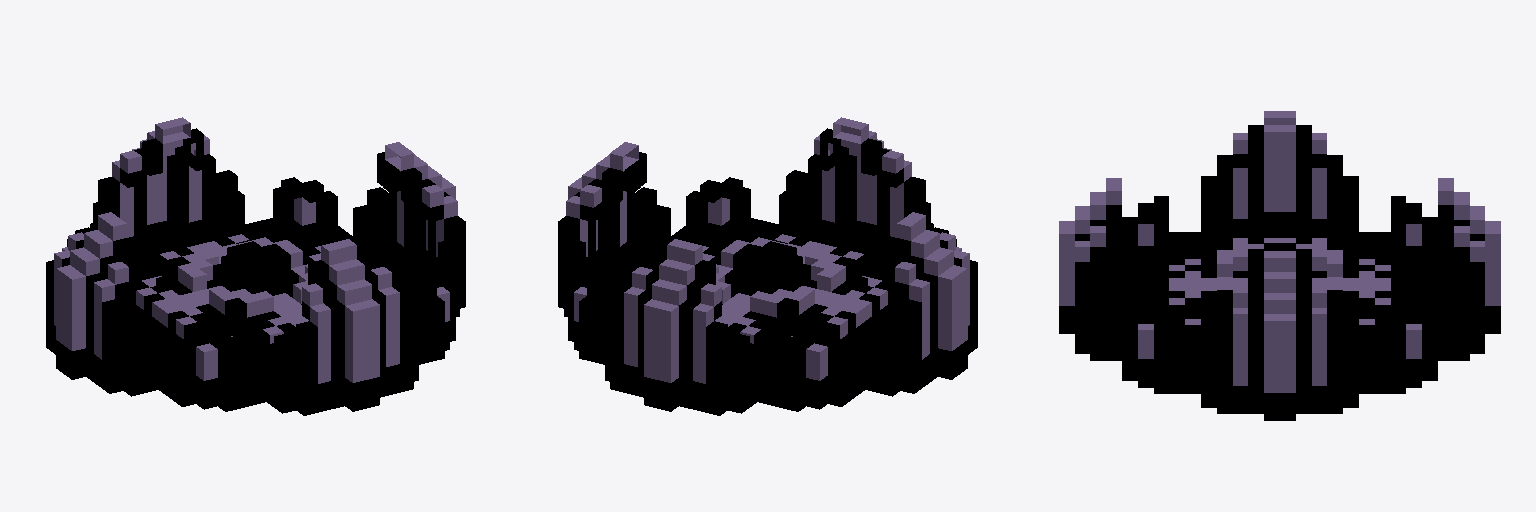
3 views of the same model, side by side, from view 1: azimuth 30°, elevation 25°; view 2: azimuth 150°, elevation 25°; view 3: azimuth 270°, elevation 25° (orthographic).
Parts seen in each view (by area): view 1: object 1; view 2: object 1; view 3: object 1.
Part boxes in pixels (x1,y1,x2,y2): object 1: (46,117,465,415); object 1: (558,117,977,415); object 1: (1059,111,1500,420).
Size of the model in its own units: 2.8 by 1 by 2.8.
Materials: 1 (1 with a texture image).